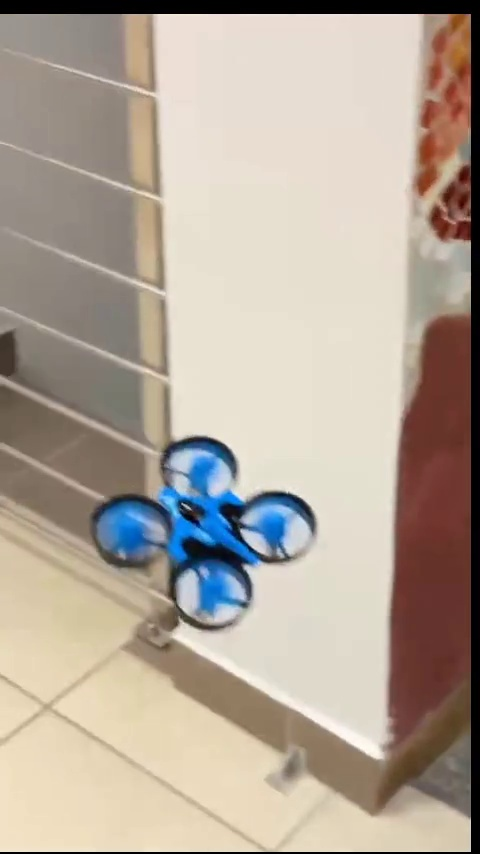drone: (86, 440, 321, 635)
